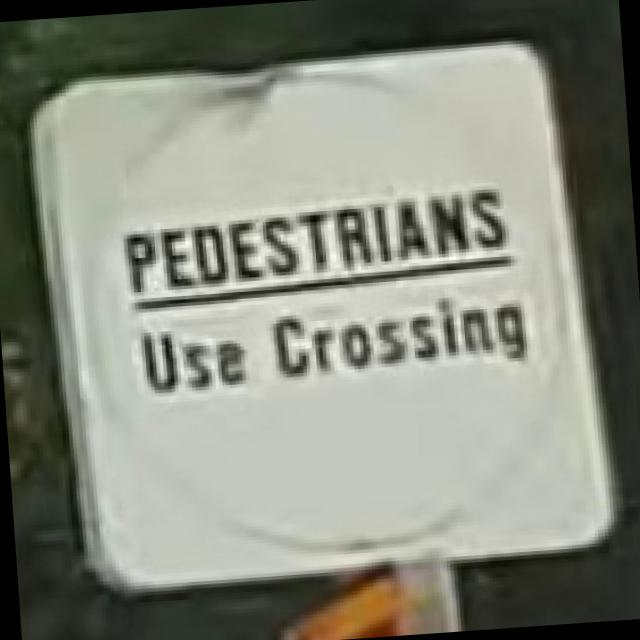pedestriancrossing_sign: (16, 29, 624, 602)
